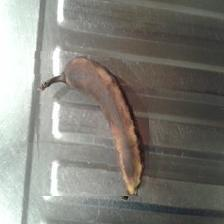Banana Rotten: (32, 52, 150, 197)
